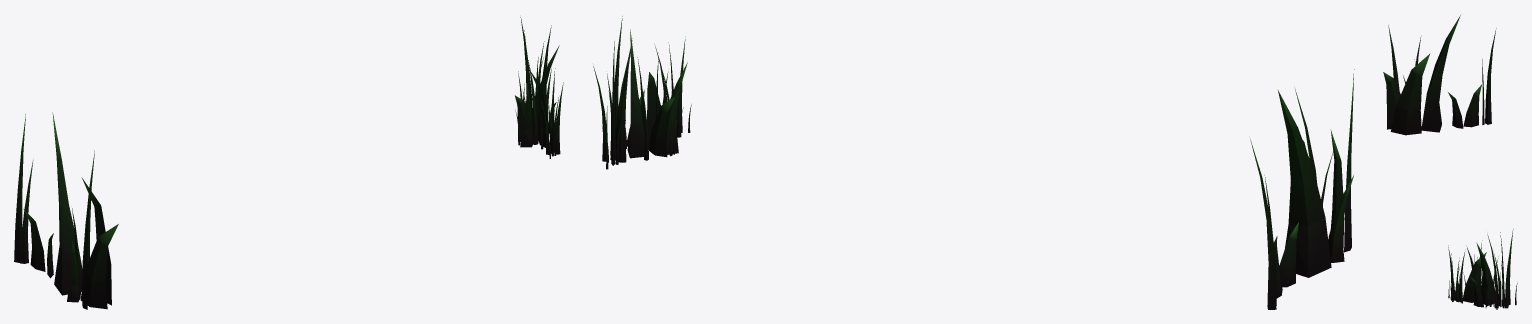
File: level2Grass.fbx
3 views of the same model, side by side, from view 1: azimuth 30°, elevation 25°; view 2: azimuth 150°, elevation 25°; view 3: azimuth 270°, elevation 25° (orthographic). The views are drawn at different scales.
Parts seen in each view (by area): view 1: level2Grass; view 2: level2Grass; view 3: level2Grass.
Boxes of the visible parts, x1,y1,x2,y2 form: level2Grass: (14, 17, 563, 309); level2Grass: (593, 16, 1354, 309); level2Grass: (1383, 15, 1517, 309).
Bounding box in the file's own units: 169 × 47.7 × 50.82.
